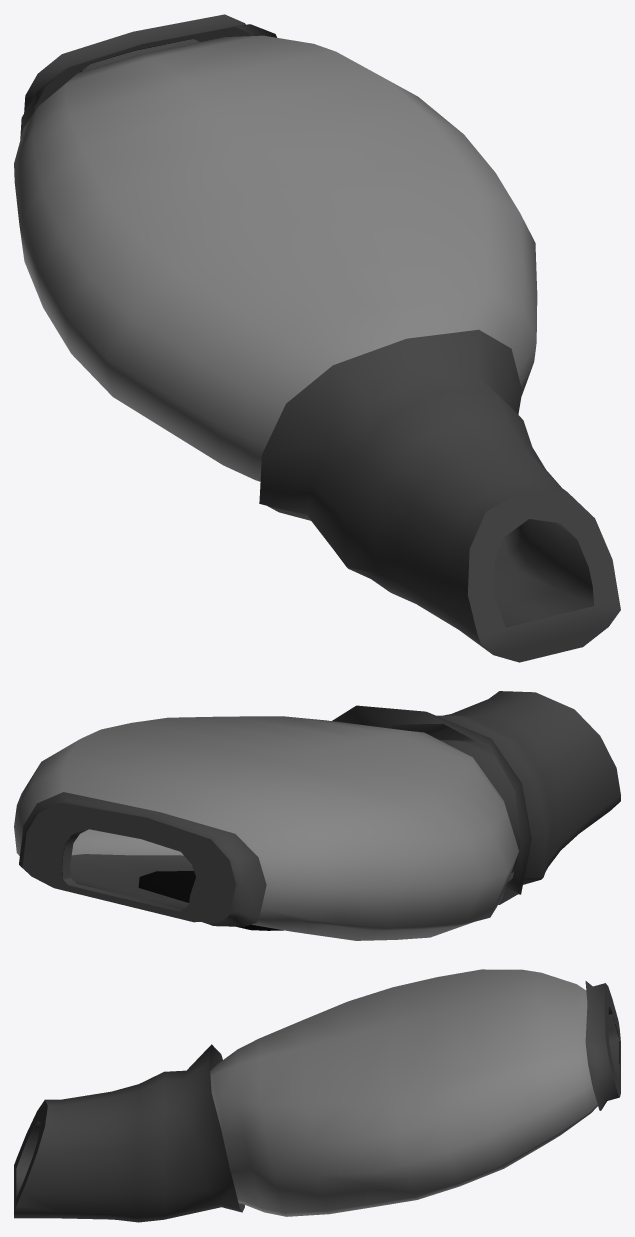
File: Cave Entrance.fbx
3 views of the same model, one above another, from view 1: azimuth 30°, elevation 25°; view 2: azimuth 150°, elevation 25°; view 3: azimuth 270°, elevation 25° (orthographic). The views are drawn at different scales.
Visible parts, largest first — view 1: Cave; view 2: Cave; view 3: Cave.
Part boxes in pixels (x1,y1,x2,y2): Cave: (14, 14, 620, 662); Cave: (14, 691, 620, 940); Cave: (14, 969, 620, 1222).
Bounding box in the file's own units: 557 × 362 × 951.
1 material, 1 textured.
